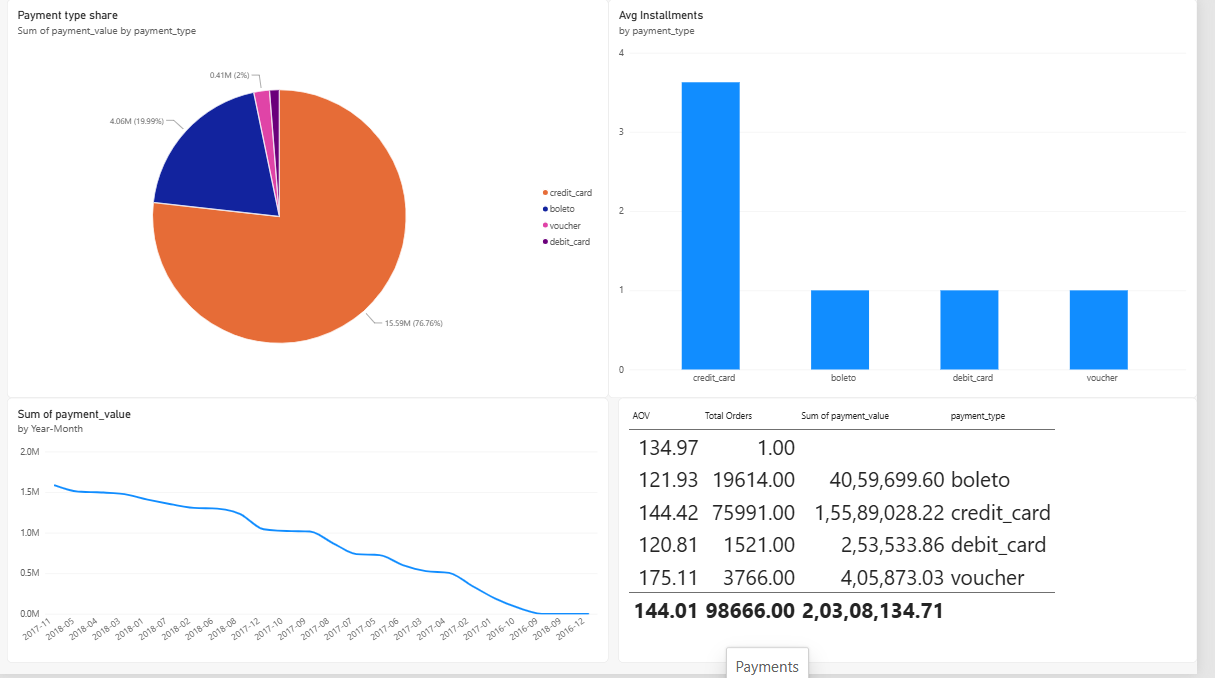

The dashboard page shown, as its layout file describes it:
{"tool":"powerbi","page":{"name":"Payments","canvas":[1920,1080],"ordinal":6},"visuals":[{"type":"pieChart","title":"Payment type share","fields":{"Category":["public bi_fact_sales.payment_type"],"Y":["Sum(public bi_fact_sales.payment_value)"]},"box":[16,0,962,638],"z":0},{"type":"clusteredColumnChart","fields":{"Category":["public bi_fact_sales.payment_type"],"Y":["public bi_fact_sales.Avg Installments"]},"box":[978,0,942,638],"z":1},{"type":"lineChart","fields":{"Category":["DimDate.Year-Month"],"Y":["Sum(public bi_fact_sales.payment_value)"]},"box":[16,638,962,424],"z":2},{"type":"tableEx","fields":{"Values":["public bi_fact_sales.AOV","public bi_fact_sales.Total Orders","Sum(public bi_fact_sales.payment_value)","public bi_fact_sales.payment_type"]},"box":[994,638,926,424],"z":3}]}

Visuals, with their boxes in screenshot pixels (x1, y1, x2, y2), scaled from the page's 1920x1080 canvas onto the 1215x678 screenshot:
"Payment type share" pieChart: bbox=[10, 0, 619, 401]
clusteredColumnChart - public bi_fact_sales.payment_type x public bi_fact_sales.Avg Installments: bbox=[619, 0, 1214, 401]
lineChart - DimDate.Year-Month x Sum(public bi_fact_sales.payment_value): bbox=[10, 401, 619, 667]
tableEx - public bi_fact_sales.AOV x public bi_fact_sales.Total Orders: bbox=[629, 401, 1214, 667]
